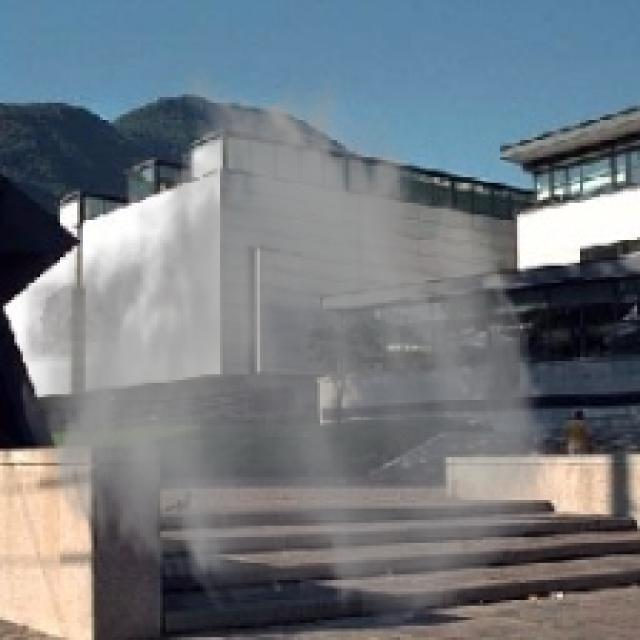smoke: (14, 63, 560, 628)
